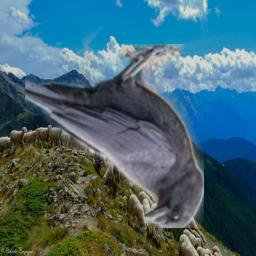Crow: (25, 44, 204, 228)
